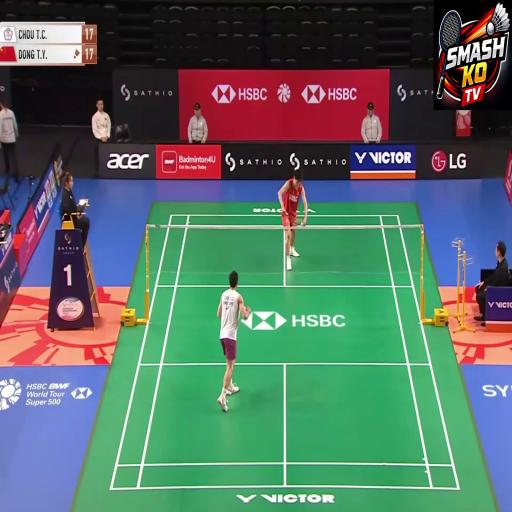player: (195, 245, 250, 420), (271, 147, 316, 309)
